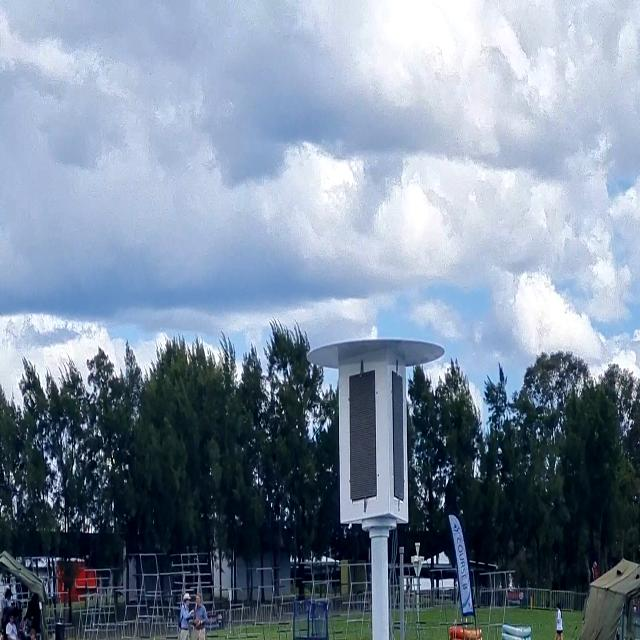led: (342, 364, 380, 502), (388, 361, 406, 506)
